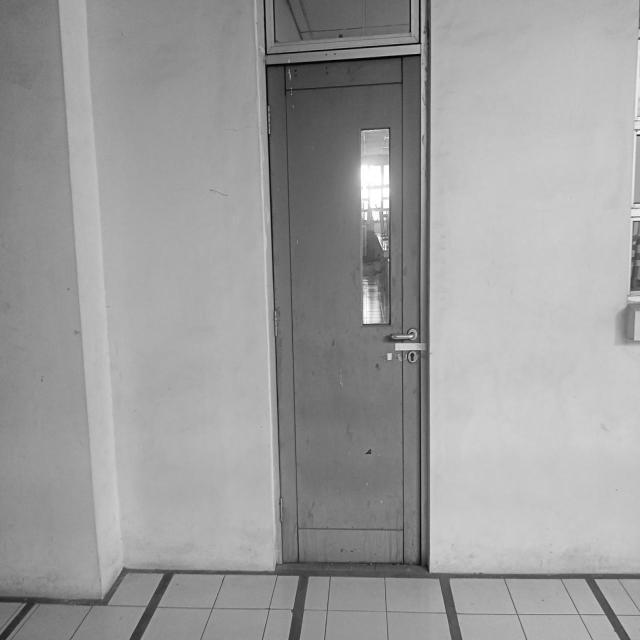door: (263, 57, 432, 570)
